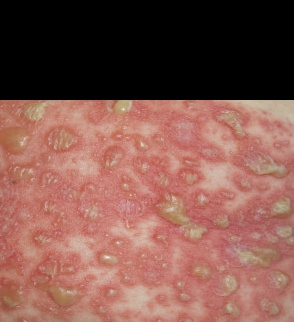SJS-TEN: (0, 99, 294, 321)
